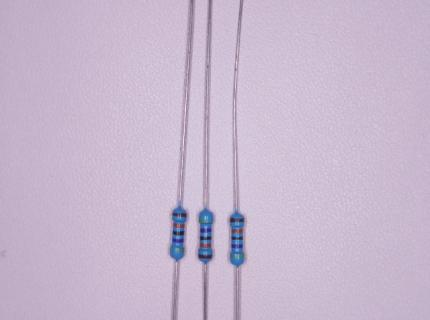Black band: (172, 230, 184, 236), (231, 237, 243, 241), (200, 236, 211, 240)
Brown band: (172, 212, 187, 218), (230, 218, 245, 223), (198, 254, 212, 259)
Orange band: (173, 223, 184, 228), (200, 243, 211, 248), (231, 229, 243, 233)
Violet band: (172, 238, 184, 243), (200, 228, 211, 233), (231, 244, 243, 248)
Yellow band: (230, 254, 245, 258), (199, 219, 213, 223), (170, 248, 184, 252)
